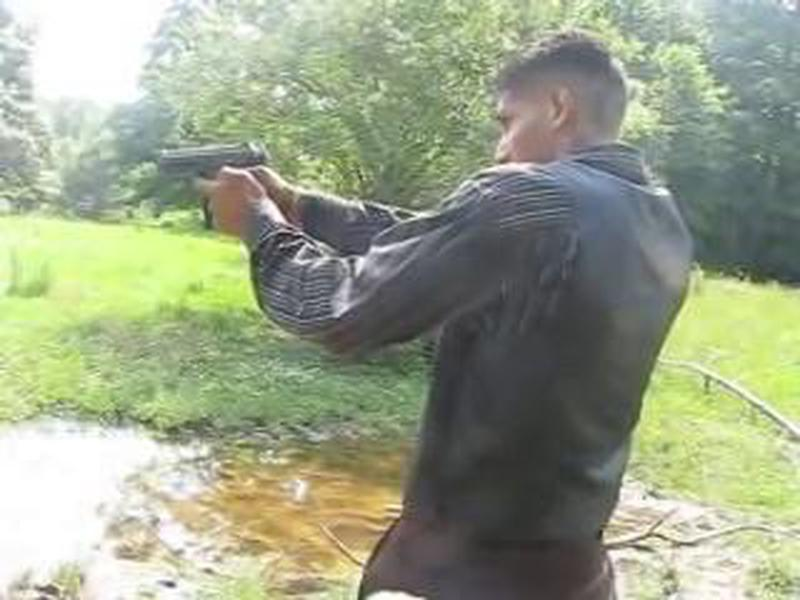Pistola: (145, 127, 277, 237)
